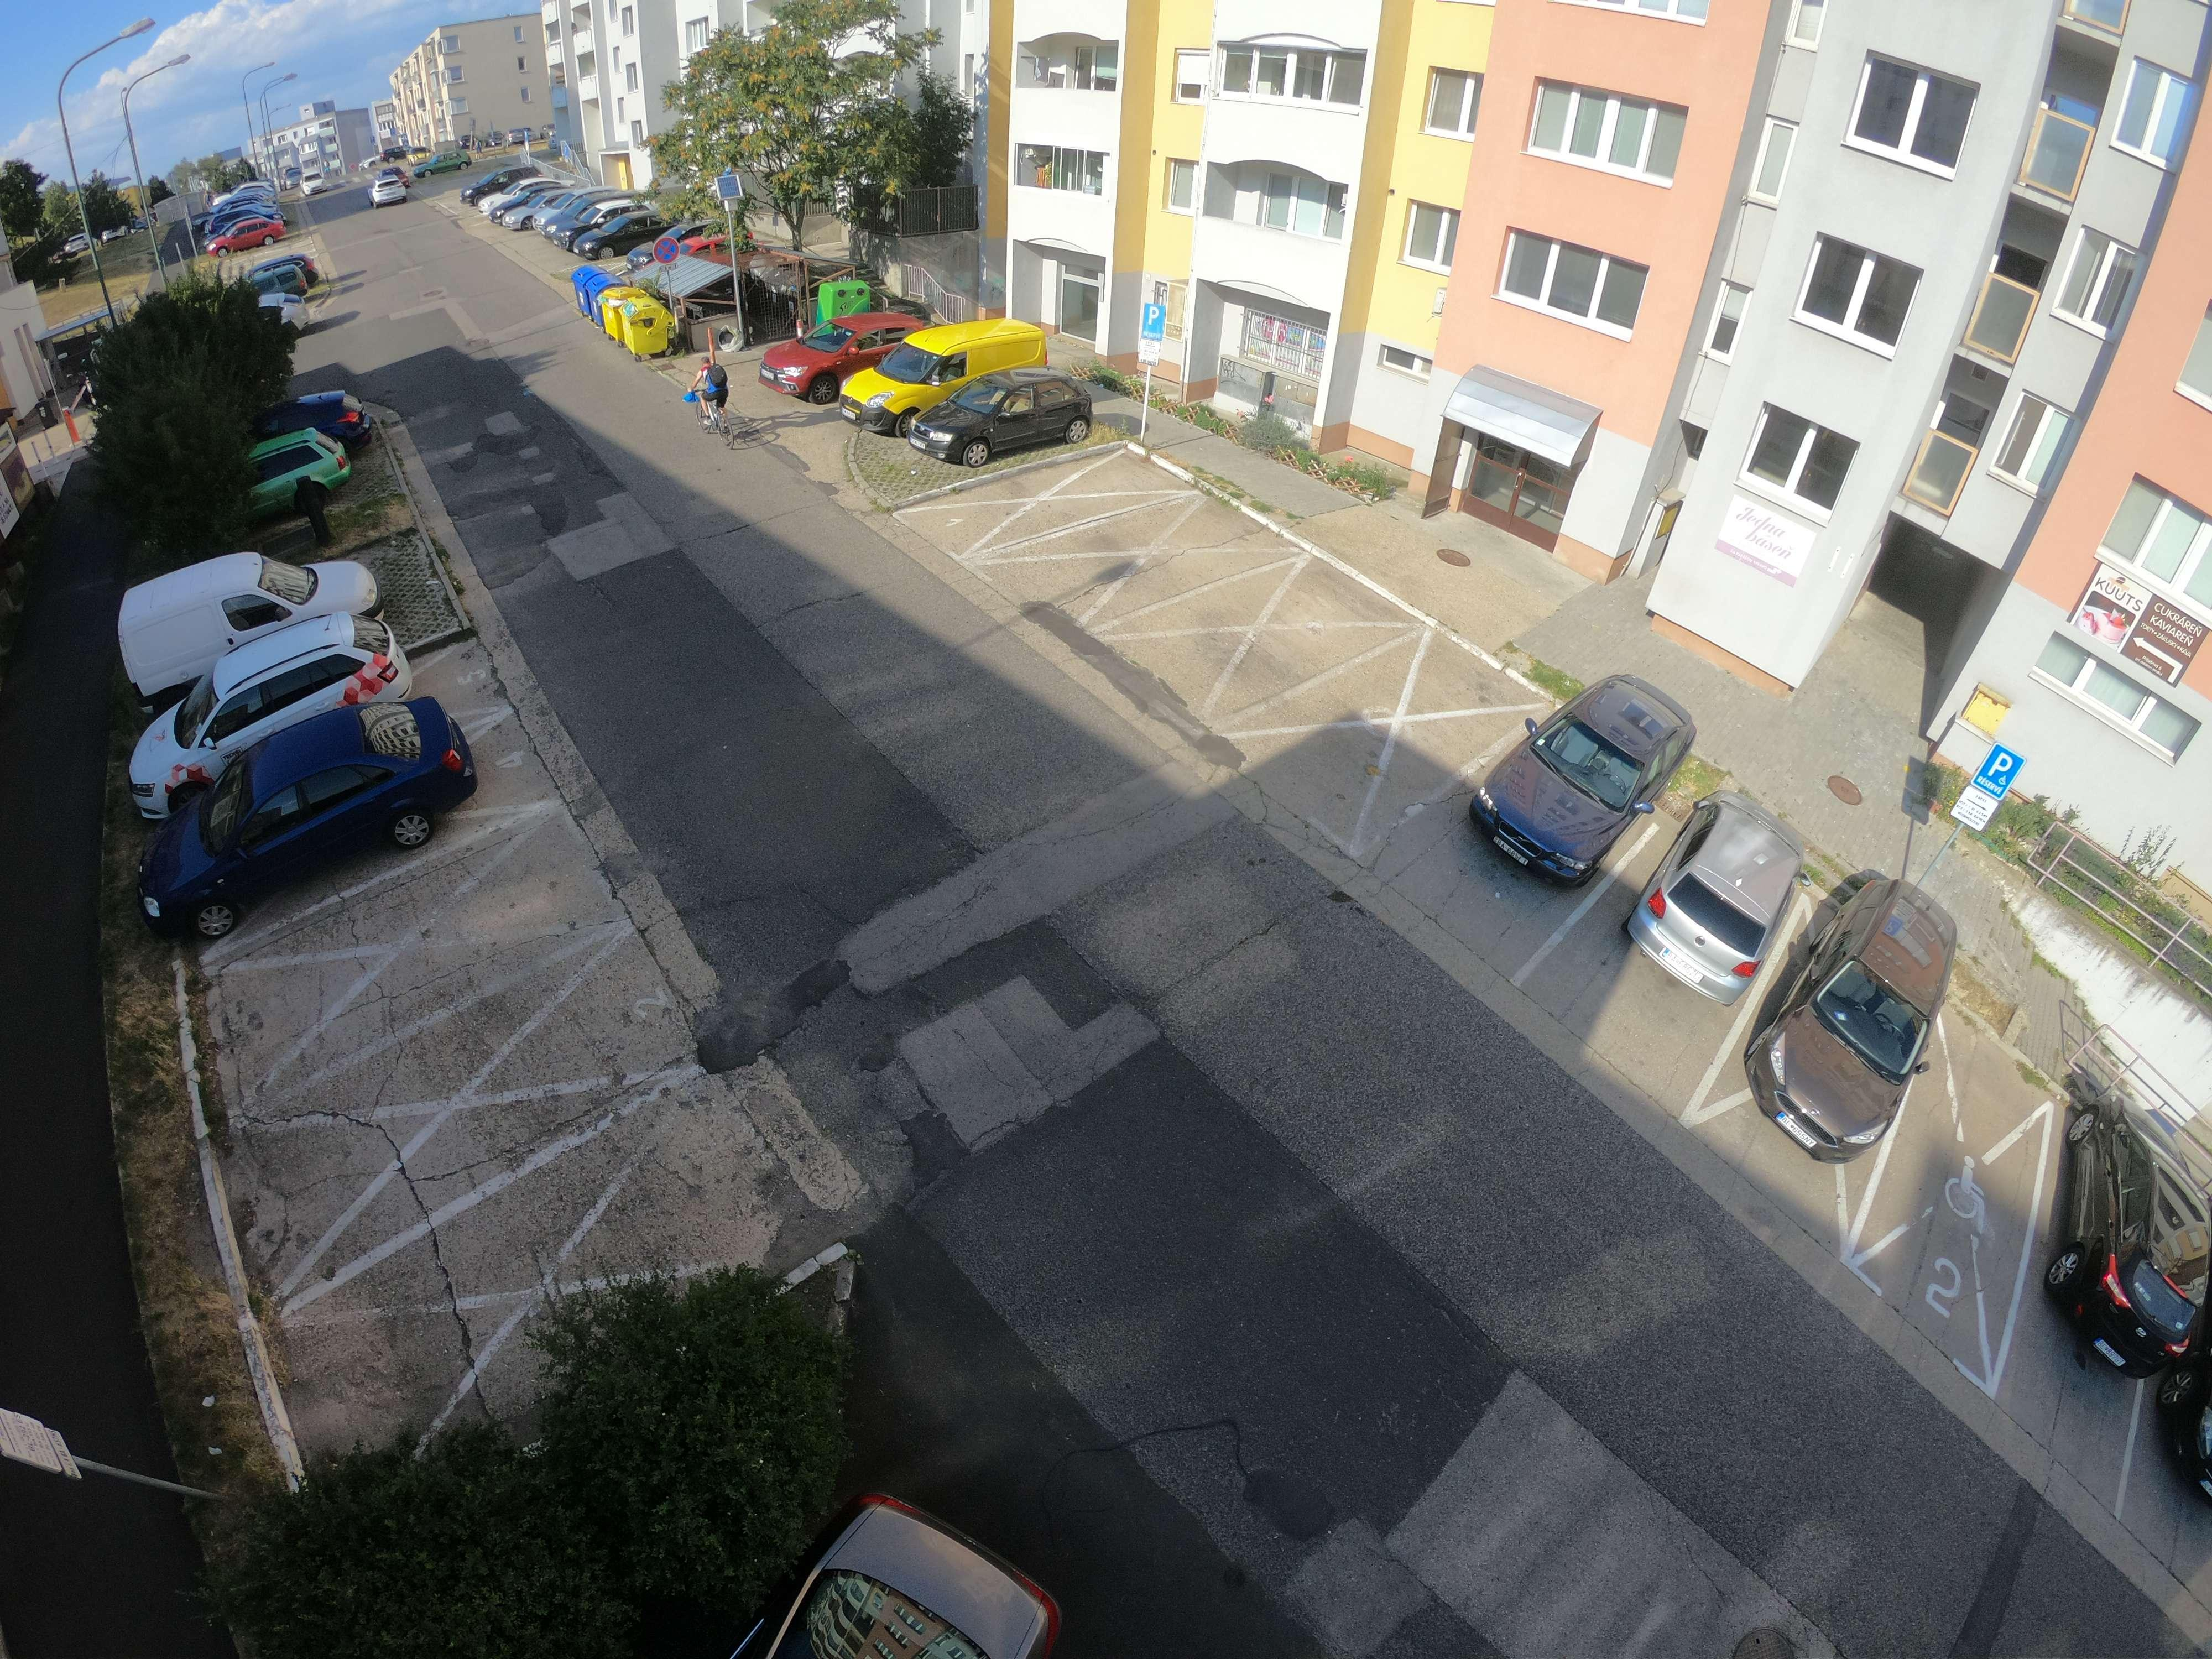empty: (145, 708, 472, 920), (723, 1480, 1103, 1659), (1759, 882, 1944, 1150), (125, 606, 388, 784), (1467, 683, 1691, 890), (2054, 1082, 2207, 1377), (103, 545, 378, 692), (1644, 784, 1801, 1002), (827, 324, 1064, 418), (923, 369, 1104, 474), (758, 317, 937, 401), (561, 193, 681, 261), (491, 169, 575, 234), (463, 166, 550, 223)
occupied: (413, 1194, 660, 1352), (352, 1049, 571, 1150), (329, 882, 467, 1004), (1320, 699, 1456, 814), (1205, 599, 1336, 690), (1087, 519, 1211, 598), (998, 462, 1092, 533)
